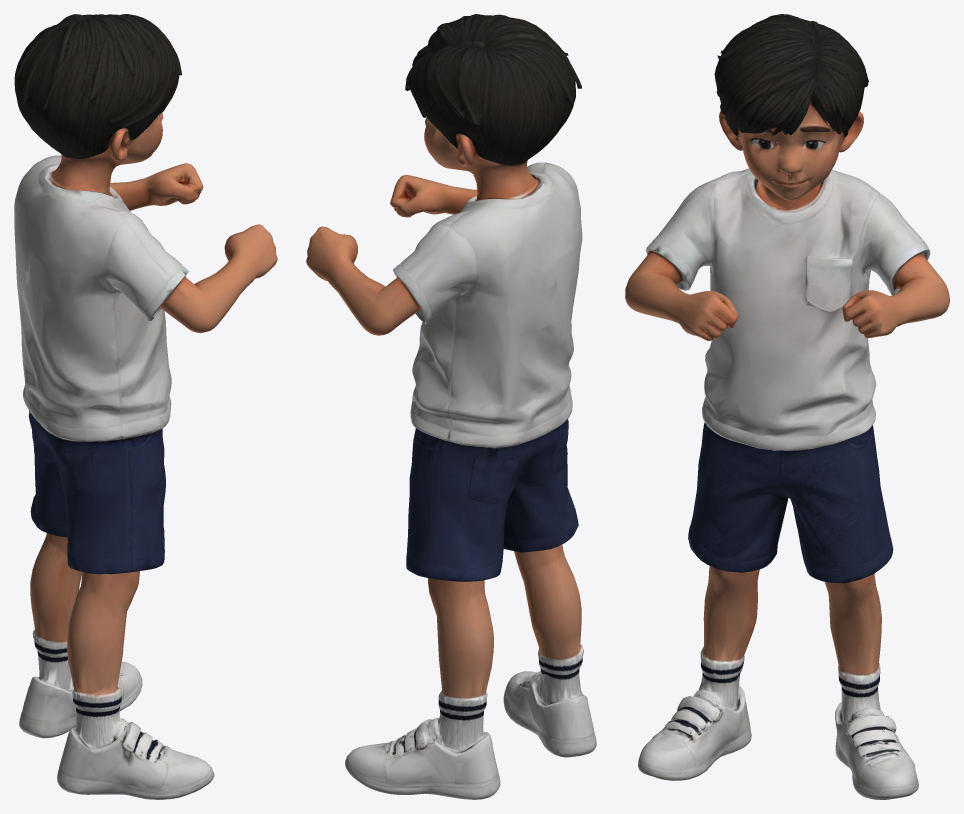
The model's file is boy4.glb.
The picture shows the model from 3 angles, left to right: view 1: azimuth 30°, elevation 25°; view 2: azimuth 150°, elevation 25°; view 3: azimuth 270°, elevation 25°; orthographic projection.
Parts seen in each view (by area): view 1: tripo_node_86f8535d-bfbb-4e10-a317-534bfbf8dc6f; view 2: tripo_node_86f8535d-bfbb-4e10-a317-534bfbf8dc6f; view 3: tripo_node_86f8535d-bfbb-4e10-a317-534bfbf8dc6f.
Part boxes in pixels (x1,y1,x2,y2): tripo_node_86f8535d-bfbb-4e10-a317-534bfbf8dc6f: (14, 14, 277, 799); tripo_node_86f8535d-bfbb-4e10-a317-534bfbf8dc6f: (306, 14, 596, 799); tripo_node_86f8535d-bfbb-4e10-a317-534bfbf8dc6f: (625, 14, 949, 799).
Bounding box in the file's own units: 0.309 × 0.9978 × 0.3959.
1 material, 1 textured.
